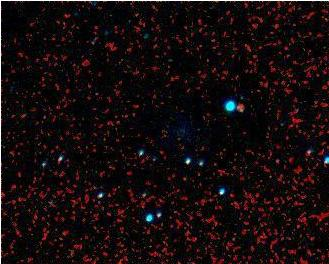star: (227, 92, 257, 122)
